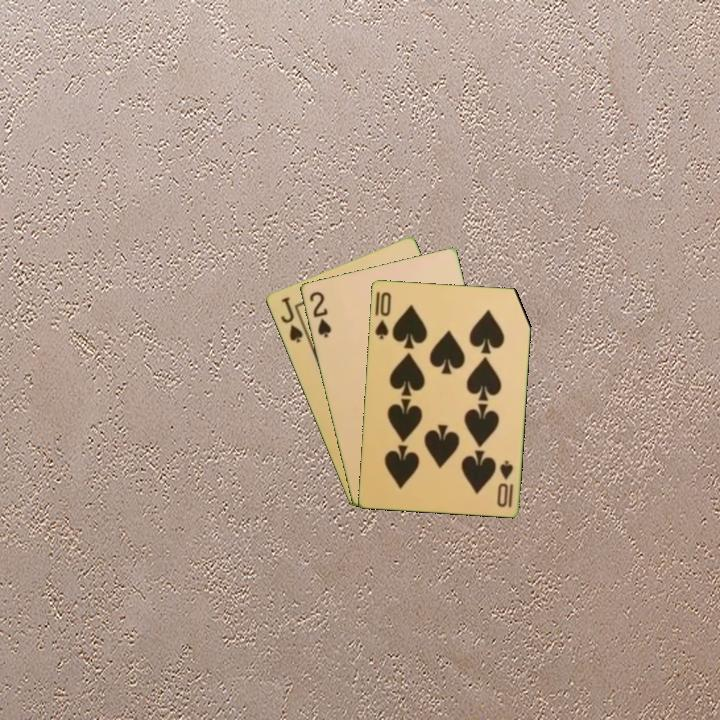10s: (371, 288, 394, 342), (493, 456, 516, 510)
2s: (306, 288, 334, 341)
Js: (277, 293, 305, 346)
